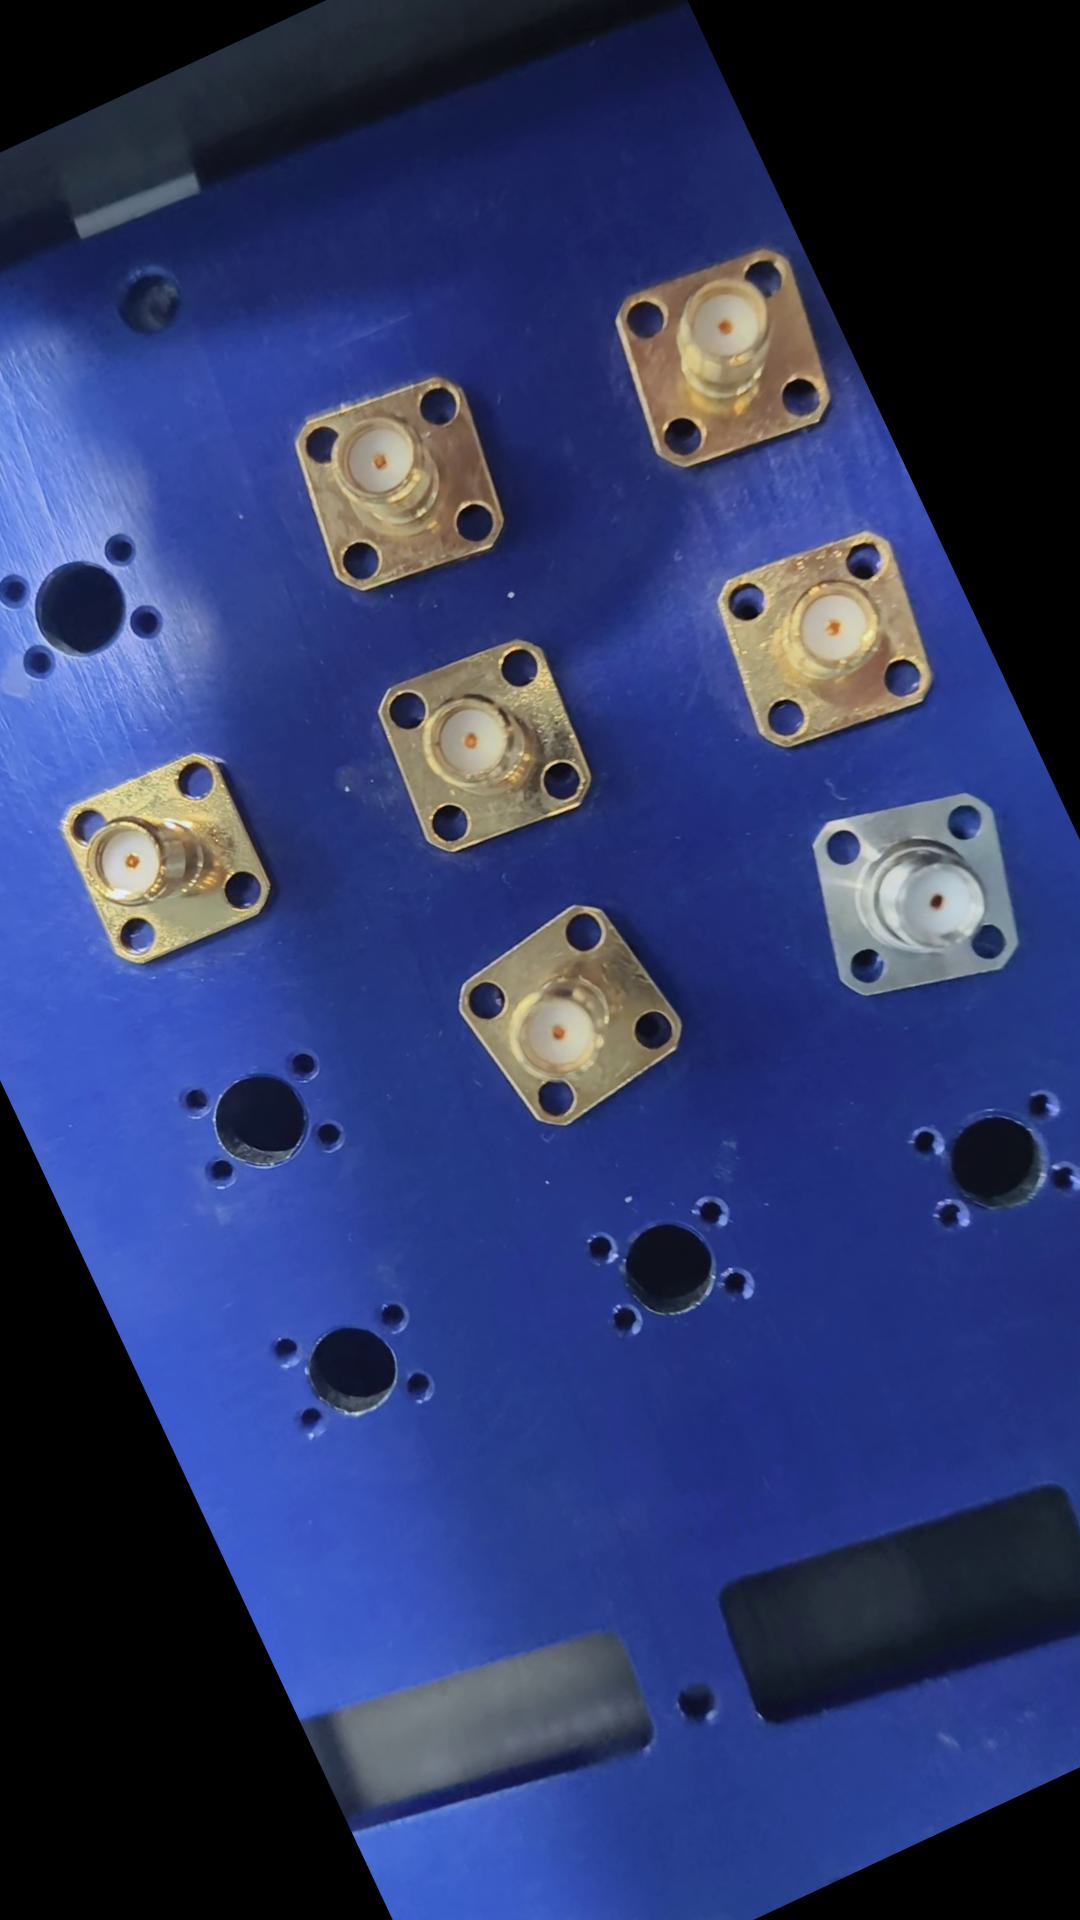SMA: (756, 752, 1054, 1048), (682, 509, 953, 787), (426, 880, 700, 1153), (343, 618, 618, 890), (255, 351, 530, 617), (582, 239, 858, 504), (34, 735, 289, 988)
